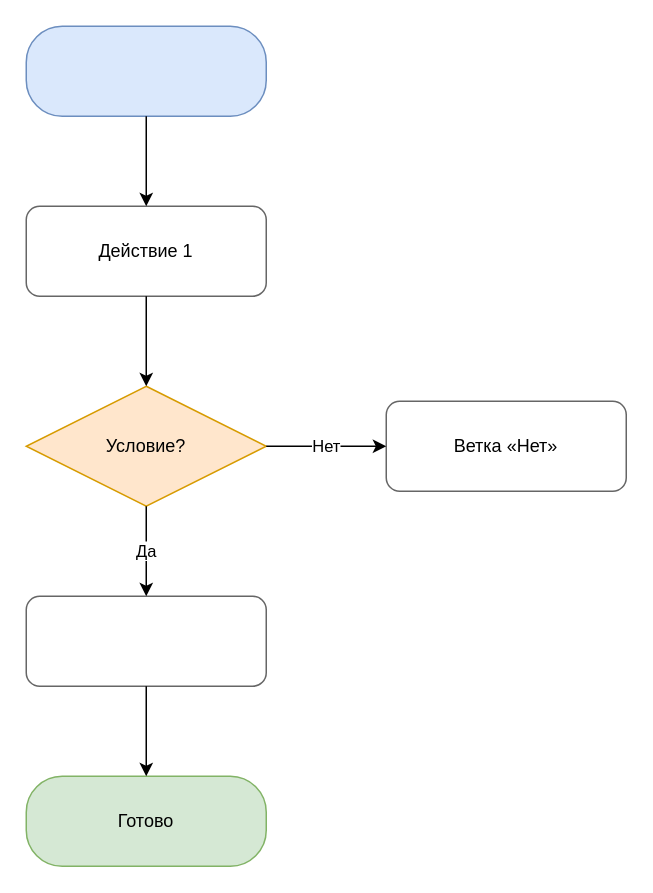
The diagram is 653 pixels wide and 893 high, and some of its shapes have lost their labels. Each missing label, with the box of its shape:
Ветка «Да»: (25, 595, 266, 686)
Старт: (25, 25, 266, 116)
